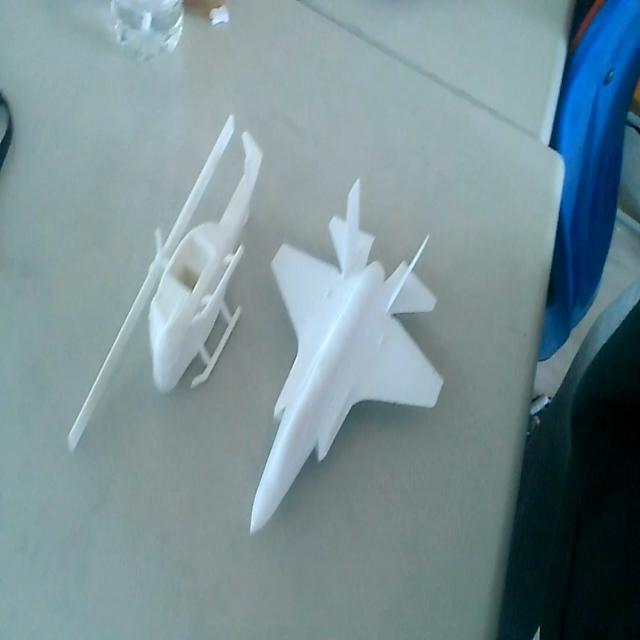Helicopter: (67, 112, 266, 462)
Jet: (248, 179, 446, 541)
